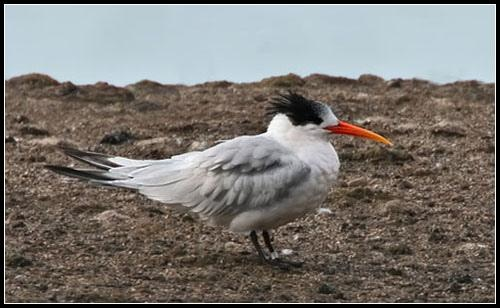bird: (47, 92, 391, 258)
